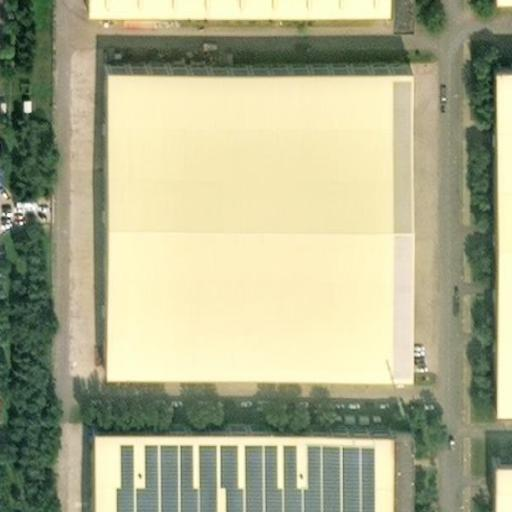building: (86, 55, 392, 362), (80, 419, 399, 512), (486, 47, 512, 430), (490, 457, 512, 511)
